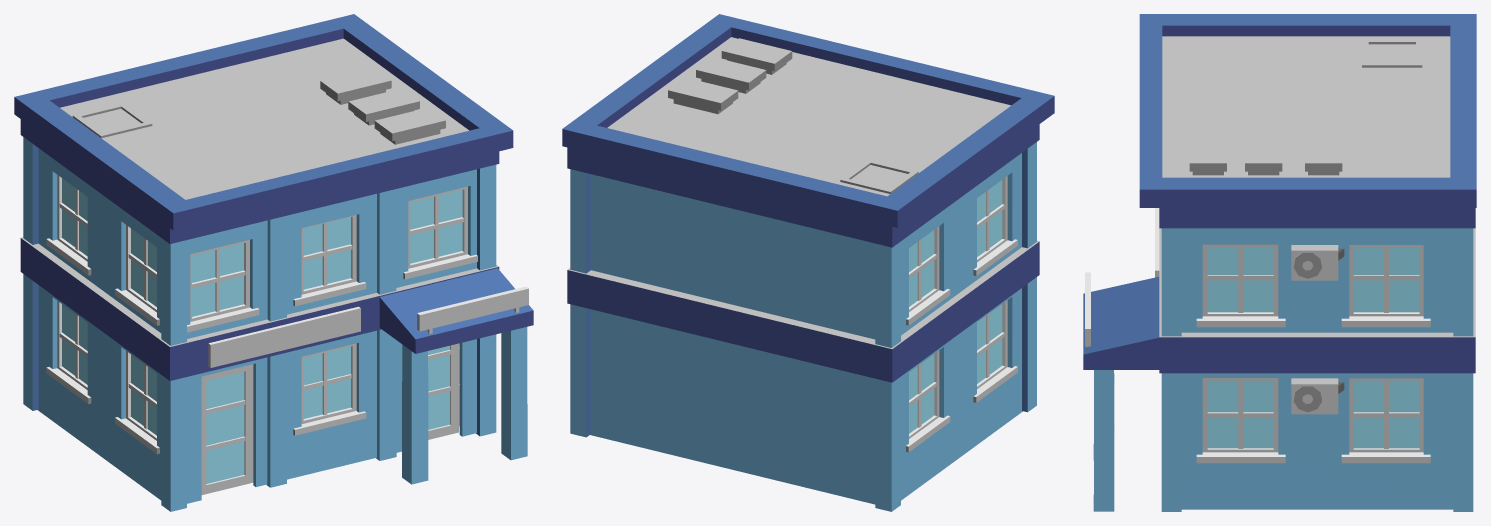
Rendered from House_5.fbx.
The picture shows the model from 3 angles, left to right: view 1: azimuth 30°, elevation 25°; view 2: azimuth 150°, elevation 25°; view 3: azimuth 270°, elevation 25°; orthographic projection. The views are drawn at different scales.
Visible parts, largest first — view 1: House_5; view 2: House_5; view 3: House_5.
Boxes of the visible parts, x1=… form: House_5: x1=14, y1=14, x2=533, y2=511; House_5: x1=562, y1=14, x2=1054, y2=511; House_5: x1=1083, y1=14, x2=1476, y2=511.
Size of the model in its own units: 4.47 by 3.92 by 4.23.
